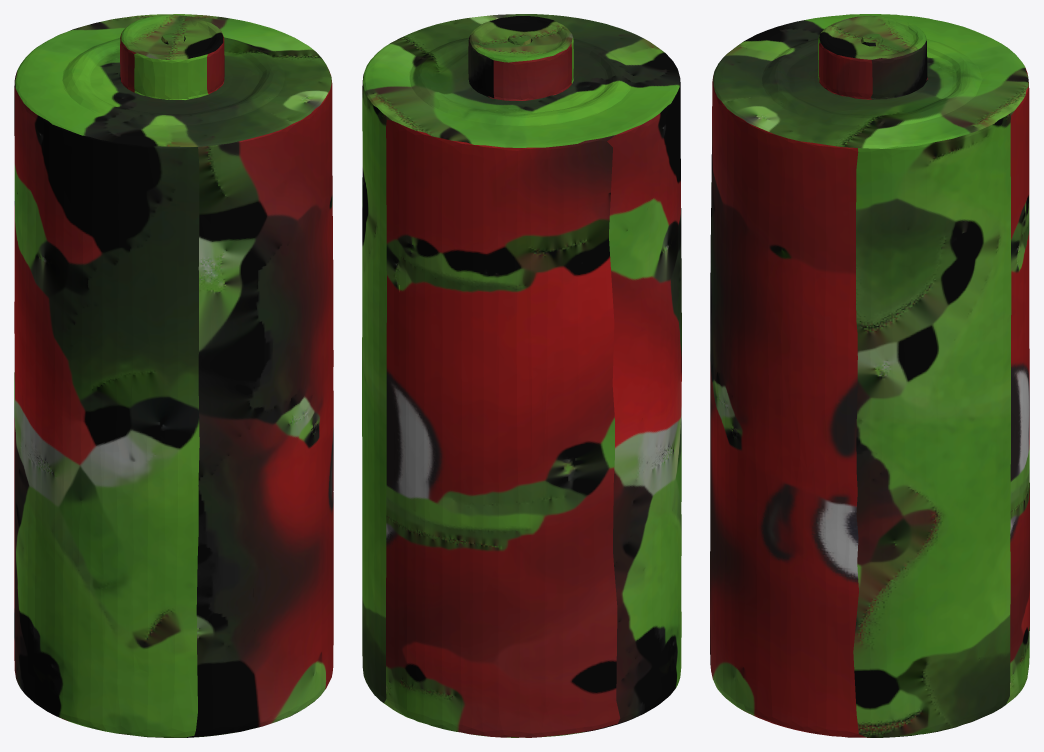
File: sample.obj
3 views of the same model, side by side, from view 1: azimuth 30°, elevation 25°; view 2: azimuth 150°, elevation 25°; view 3: azimuth 270°, elevation 25° (orthographic).
Size of the model in its own units: 0.0321 by 0.07 by 0.032.
